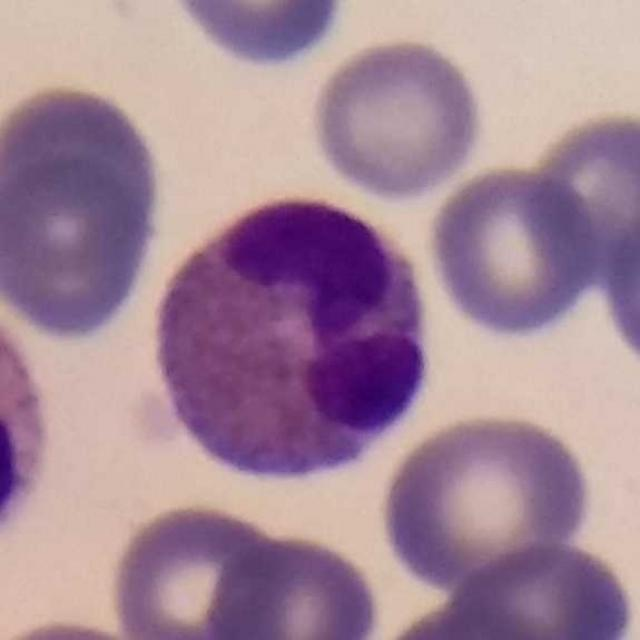Eosinophil: (137, 176, 445, 502), (0, 304, 52, 567)
RBC: (0, 76, 174, 350), (375, 406, 598, 594), (424, 161, 603, 342), (307, 33, 489, 204), (104, 497, 295, 640), (517, 107, 640, 318), (203, 526, 386, 640), (442, 537, 639, 639), (155, 0, 357, 75), (593, 127, 640, 411), (363, 595, 566, 640), (0, 614, 167, 640)
